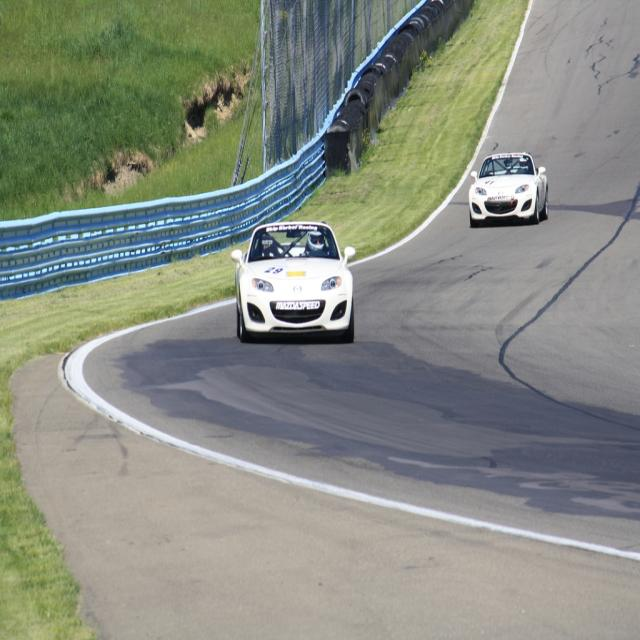car: (229, 209, 359, 334), (467, 149, 547, 226)
